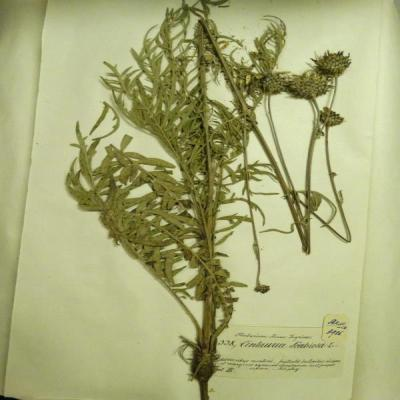natural_science_collection: (63, 0, 352, 400)
